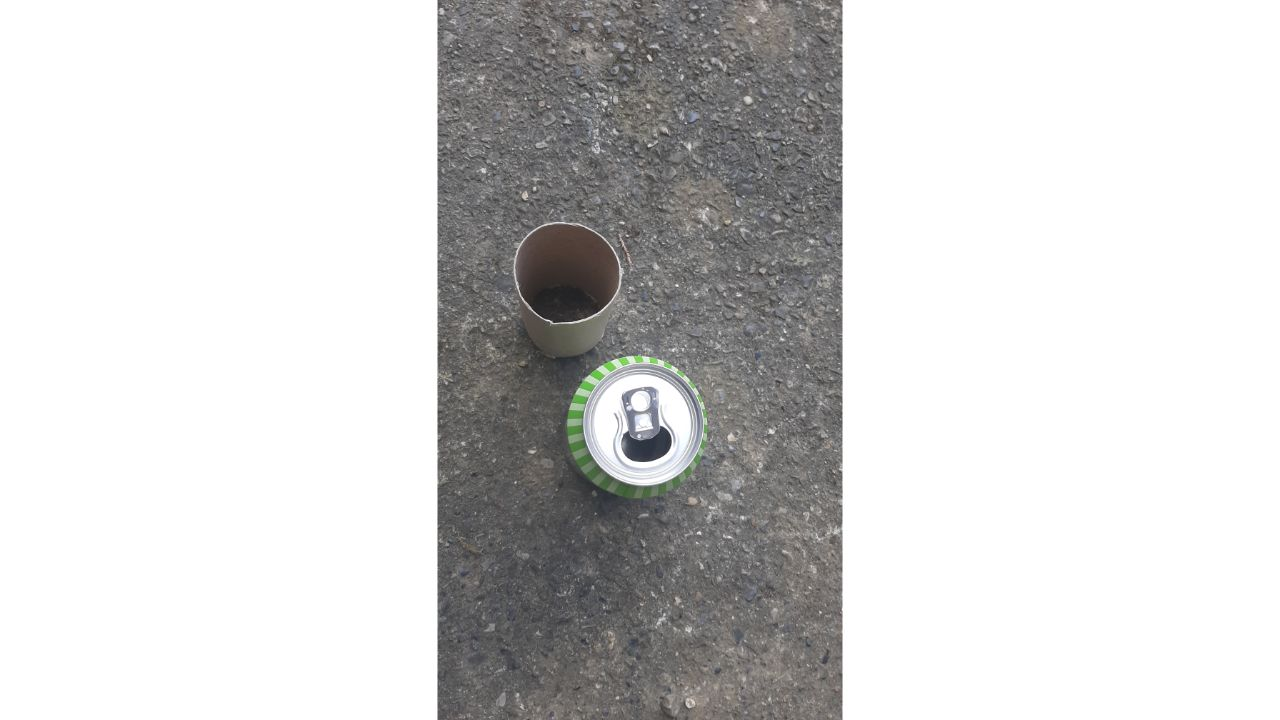Can: (557, 343, 714, 505)
